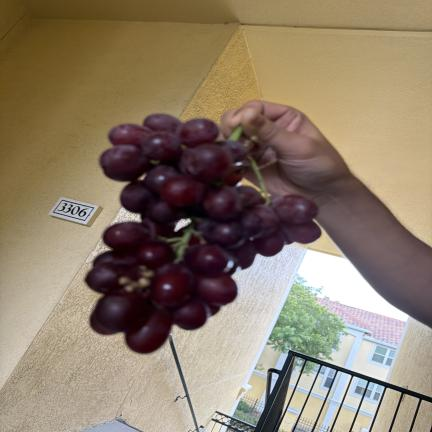grape_cluster: (86, 114, 321, 353)
